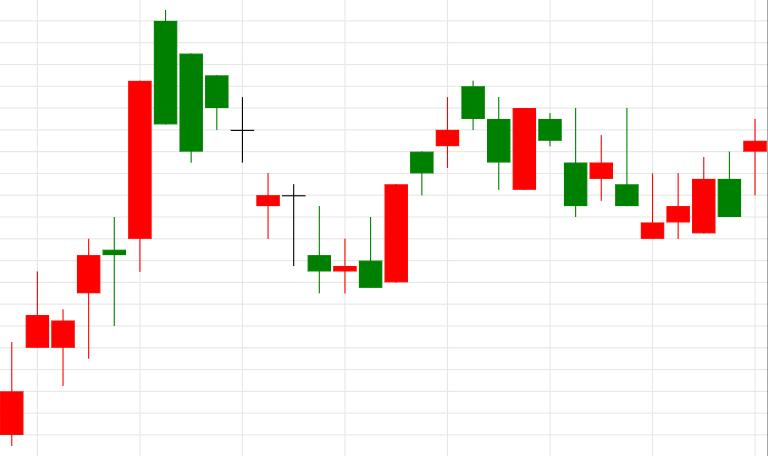hanging_man_fall: (0, 239, 100, 445)
inverse_hammer_rise: (155, 9, 382, 293)
